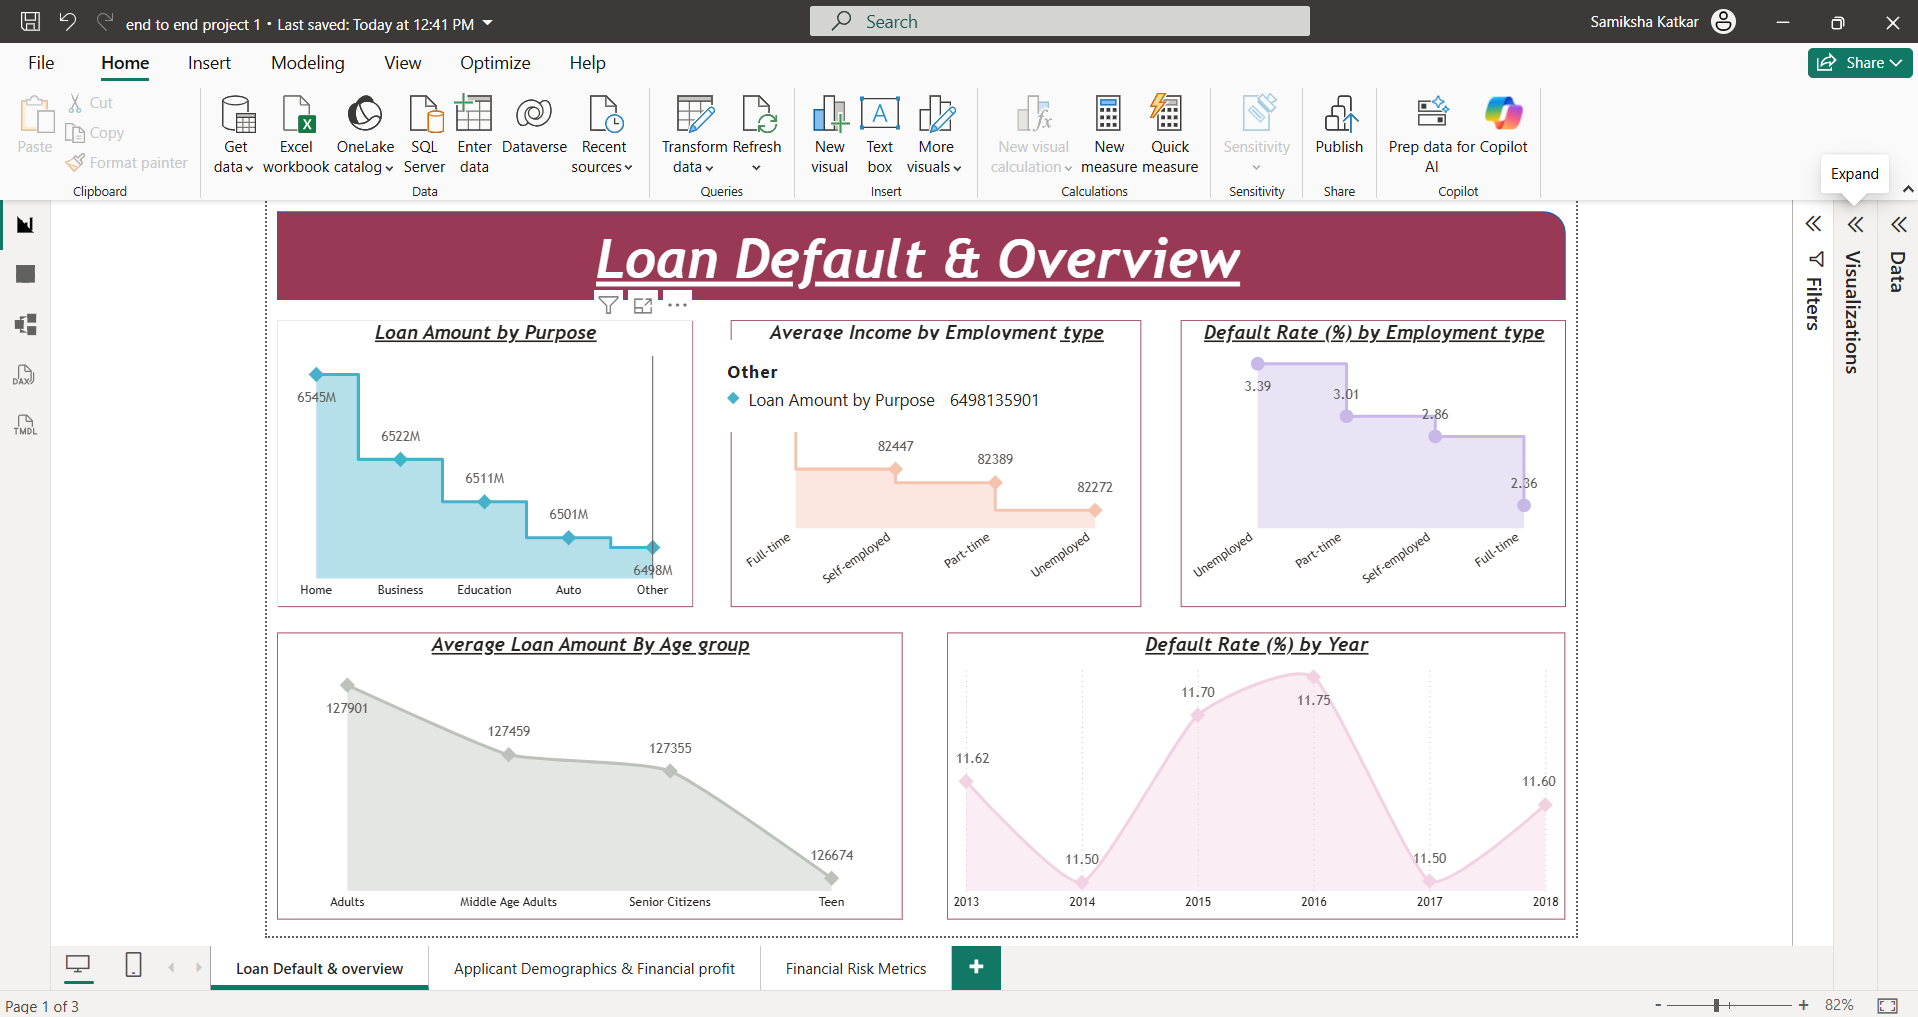

Layout of this report page (visuals, bound fields, positions):
{"tool":"powerbi","page":{"name":"Loan Default & overview","canvas":[1280,720],"ordinal":0},"visuals":[{"type":"shape","box":[9.8,11,1260.7,86.8],"z":0},{"type":"lineChart","title":"Loan Amount by Purpose","fields":{"Y":["Measures Table 1.Loan Amount by Purpose"],"Category":["Loan_default.LoanPurpose"]},"box":[10,117,406.8,281.2],"z":1000},{"type":"lineChart","title":"Average Income by Employment type","fields":{"Y":["Measures Table 1.Average Income by Employement type"],"Category":["Loan_default.EmploymentType"]},"box":[454.1,117,401.9,281.2],"z":2000},{"type":"lineChart","title":"Default Rate (%) by Employment type","fields":{"Y":["Measures Table 1.Default Rate by Employment type"],"Category":["Loan_default.EmploymentType"]},"box":[893.3,117,377,281.2],"z":3000},{"type":"lineChart","title":"Average Loan Amount By Age group","fields":{"Y":["Measures Table 1.Average Loan by Age Group"],"Category":["Loan_default.Age Groups"]},"box":[10,423,612.1,281.2],"z":4000},{"type":"lineChart","title":"Default Rate (%) by Year","fields":{"Y":["Measures Table 1.Default Rate by Year"],"Category":["Loan_default.Year"]},"box":[665.6,423,604.7,281.2],"z":5000}]}

Visuals, with their boxes on the page's 1280x720 design canvas (x1, y1, x2, y2). These are canvas units, not pixel positions in the 1918x1017 screenshot, which may show the page scaled, cropped or inside an application window:
shape: {"left": 10, "top": 11, "right": 1270, "bottom": 98}
"Loan Amount by Purpose" lineChart: {"left": 10, "top": 117, "right": 417, "bottom": 398}
"Average Income by Employment type" lineChart: {"left": 454, "top": 117, "right": 856, "bottom": 398}
"Default Rate (%) by Employment type" lineChart: {"left": 893, "top": 117, "right": 1270, "bottom": 398}
"Average Loan Amount By Age group" lineChart: {"left": 10, "top": 423, "right": 622, "bottom": 704}
"Default Rate (%) by Year" lineChart: {"left": 666, "top": 423, "right": 1270, "bottom": 704}
